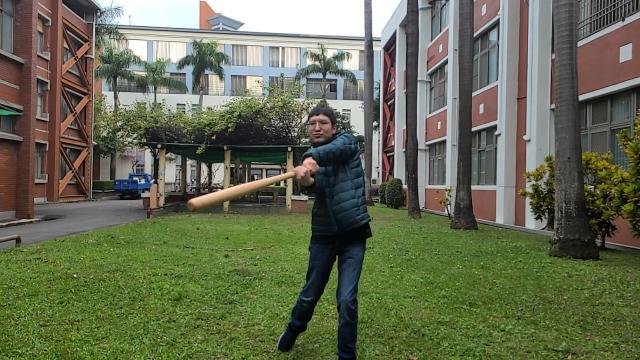bat: (187, 172, 293, 212)
